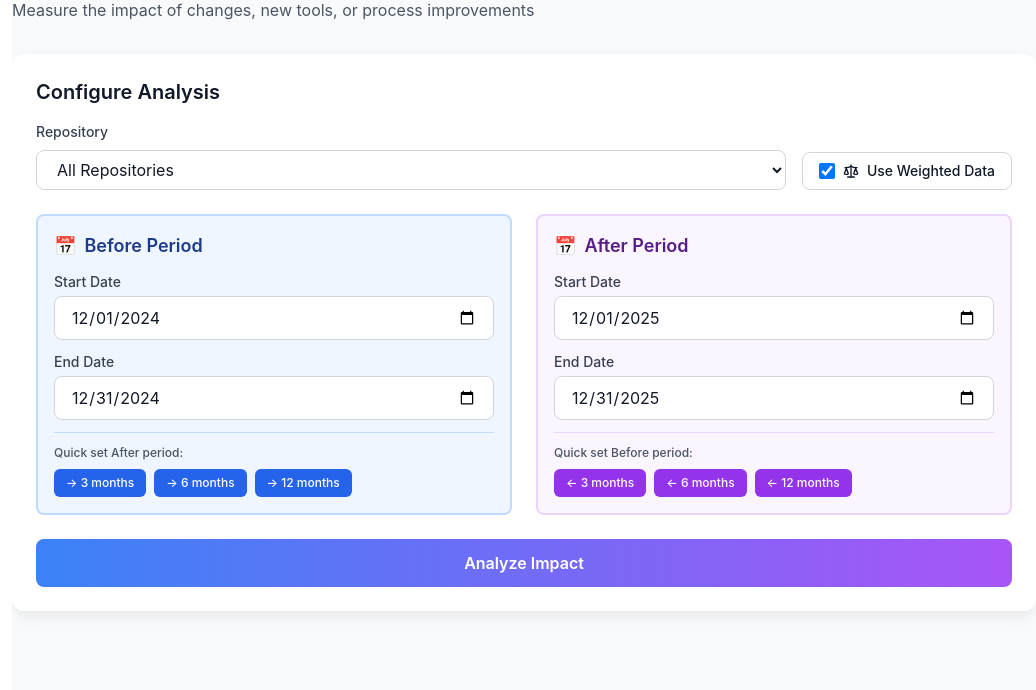
BeforeAfter › Weighted Data Toggle › should toggle between weighted and unweighted values dynamically
The width and height of the screenshot is (1036, 690).
Click Analyze button first
Click the button "Analyze Impact". click: (524, 563)
box: [36, 539, 1012, 587]
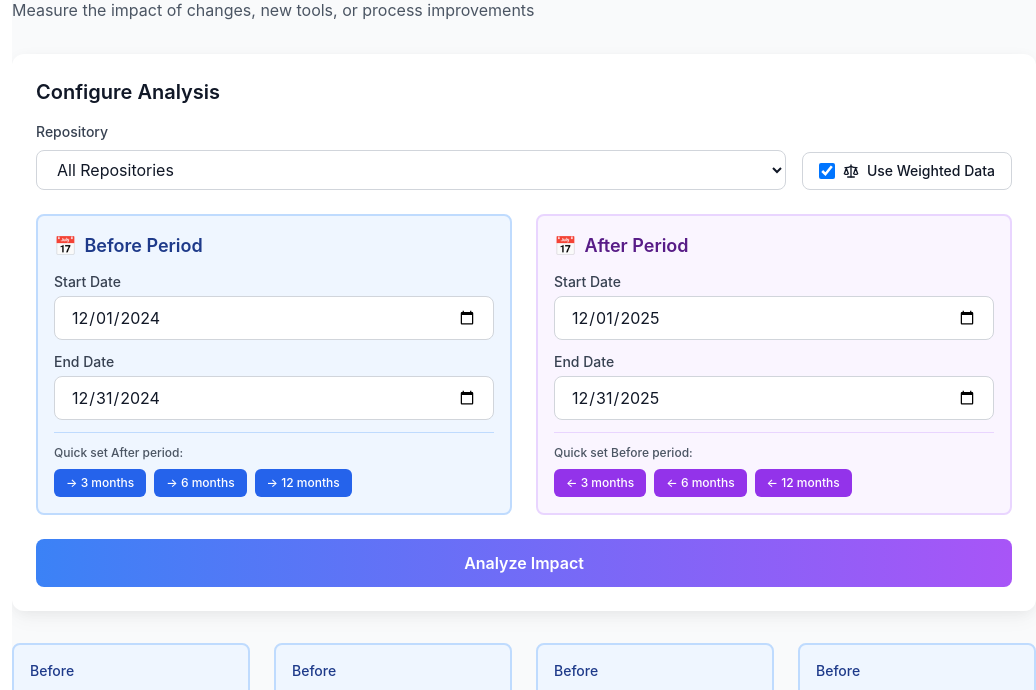
Now toggle off
Click the checkbox. click: (827, 171)
box: [819, 163, 835, 179]
(page scrolled)
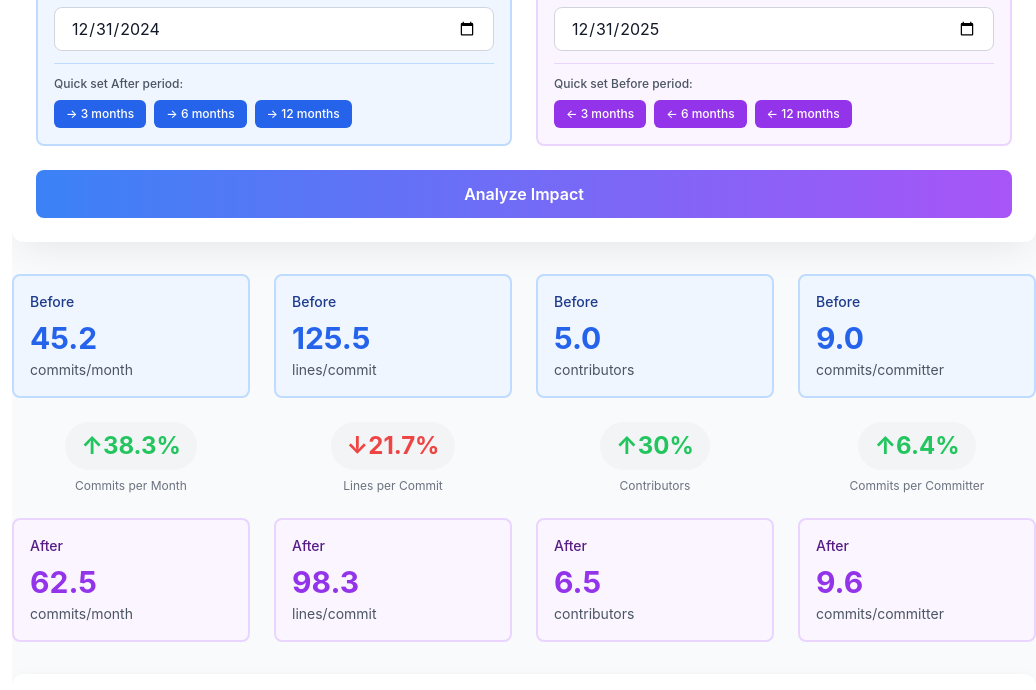
Expected: the text "45.2" is shown, [30, 320, 97, 356]
